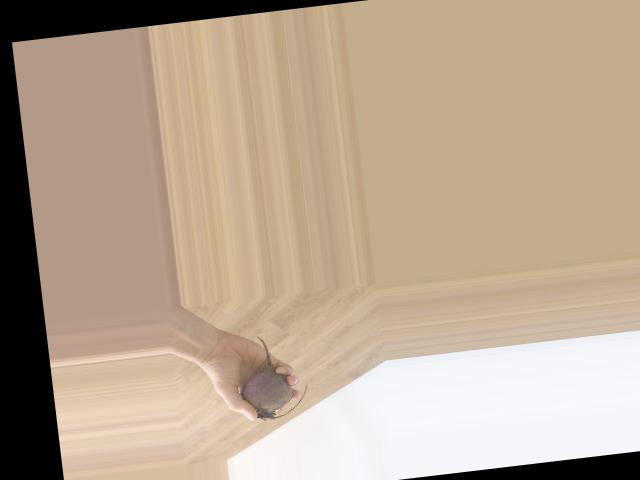beet: (235, 331, 311, 423)
